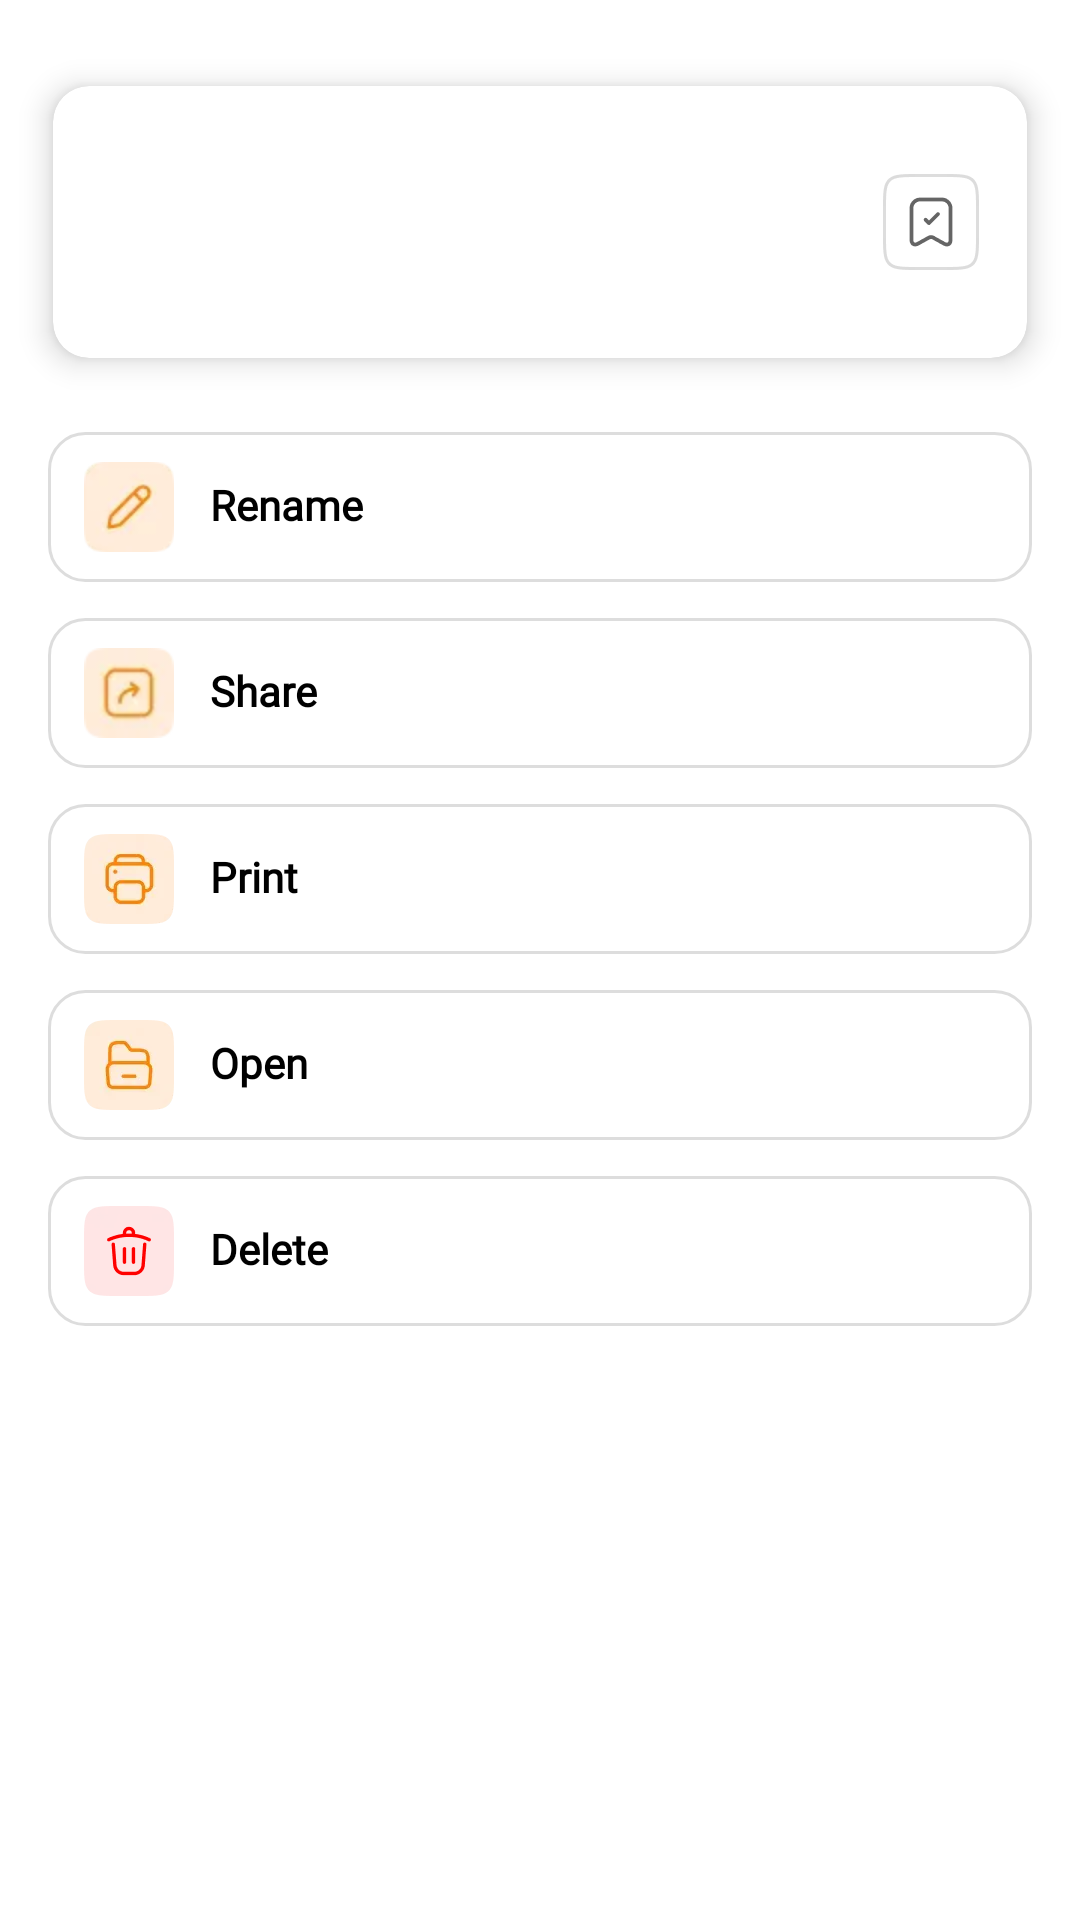

Icons on this 1080w x 1920h Android screen, each with the point to tap as [x,y]:
item collection: [931,222]
